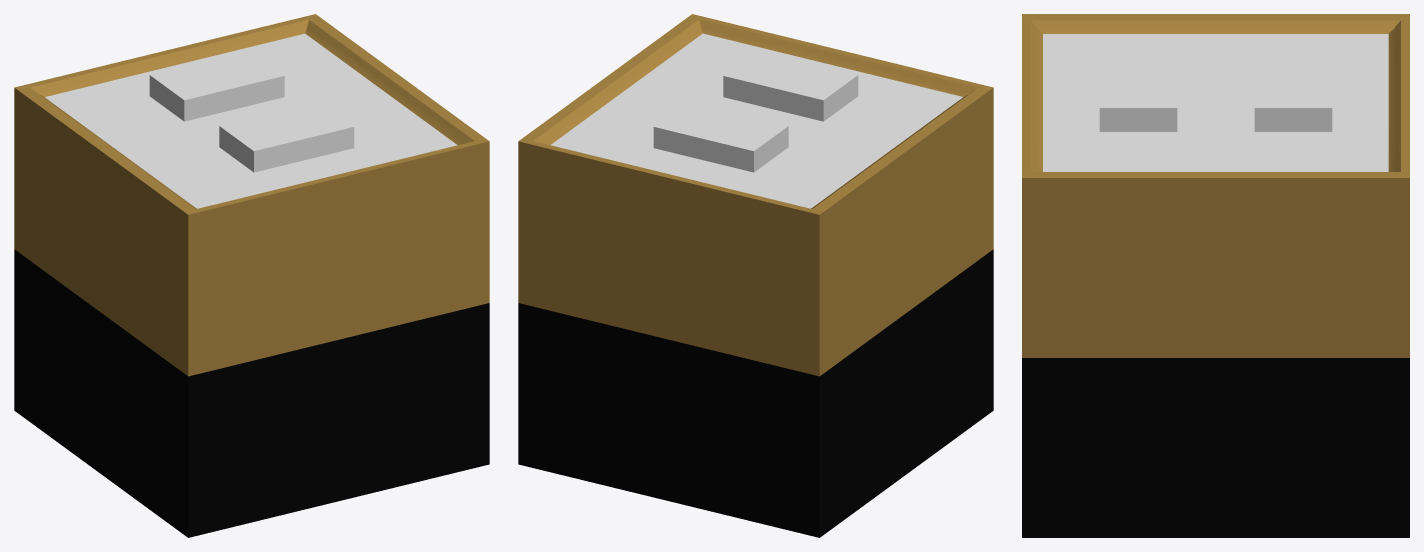
Rendered from Battery.fbx.
3 renders of one model, left to right at view 1: azimuth 30°, elevation 25°; view 2: azimuth 150°, elevation 25°; view 3: azimuth 270°, elevation 25°, orthographic. The views are drawn at different scales.
Visible parts, largest first — view 1: pCube1; view 2: pCube1; view 3: pCube1.
Boxes of the visible parts, x1,y1,x2,y2 form: pCube1: (14,14,489,537); pCube1: (518,14,993,537); pCube1: (1022,14,1409,537).
Size of the model in its own units: 200 by 214 by 200.
